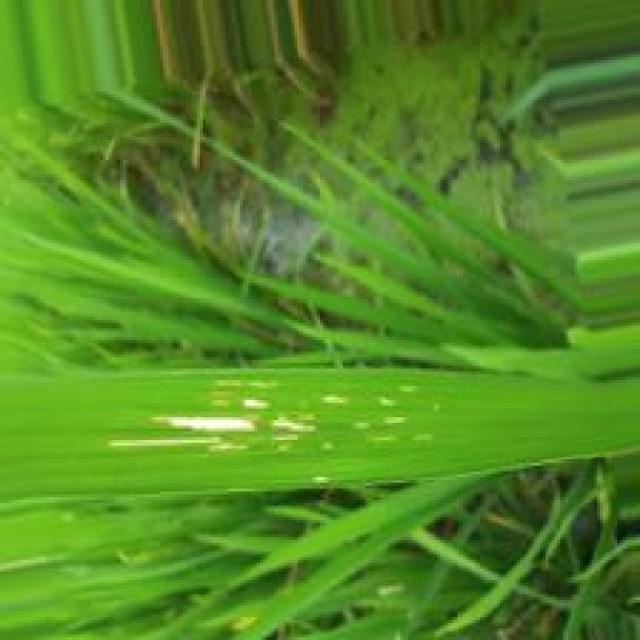Rice_Hispa: (107, 415, 251, 454)
